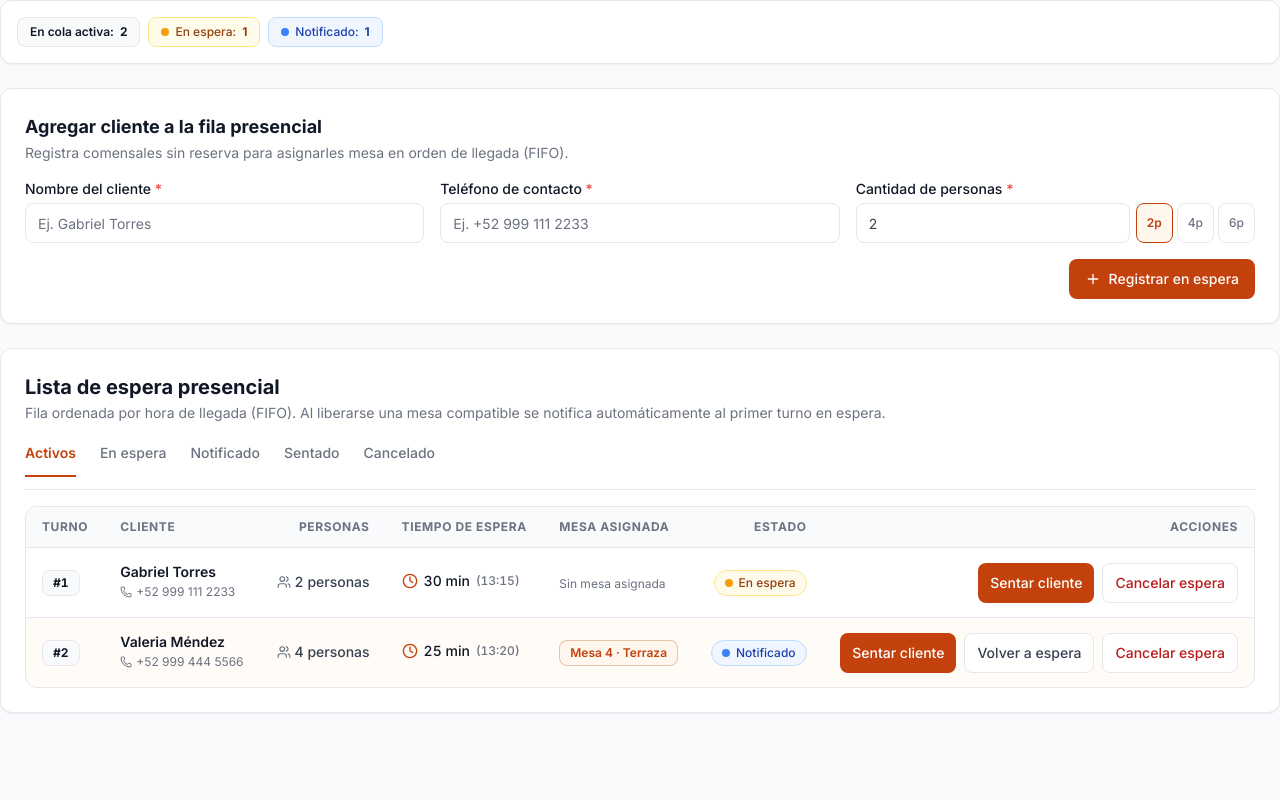
FE-010 · Vista de Lista de Espera Presencial y Alertas de Mesa Compatible (ListaEsperaView) › 3. Acciones de transición de estado en la cola (Sentar, Cancelar, Volver a espera · RF-022) › transiciona un turno a Sentado al hacer clic en "Sentar cliente"
Click the button "Sentar cliente" in the row of "Gabriel Torres" at (1036, 582), box [978,562,1094,602]
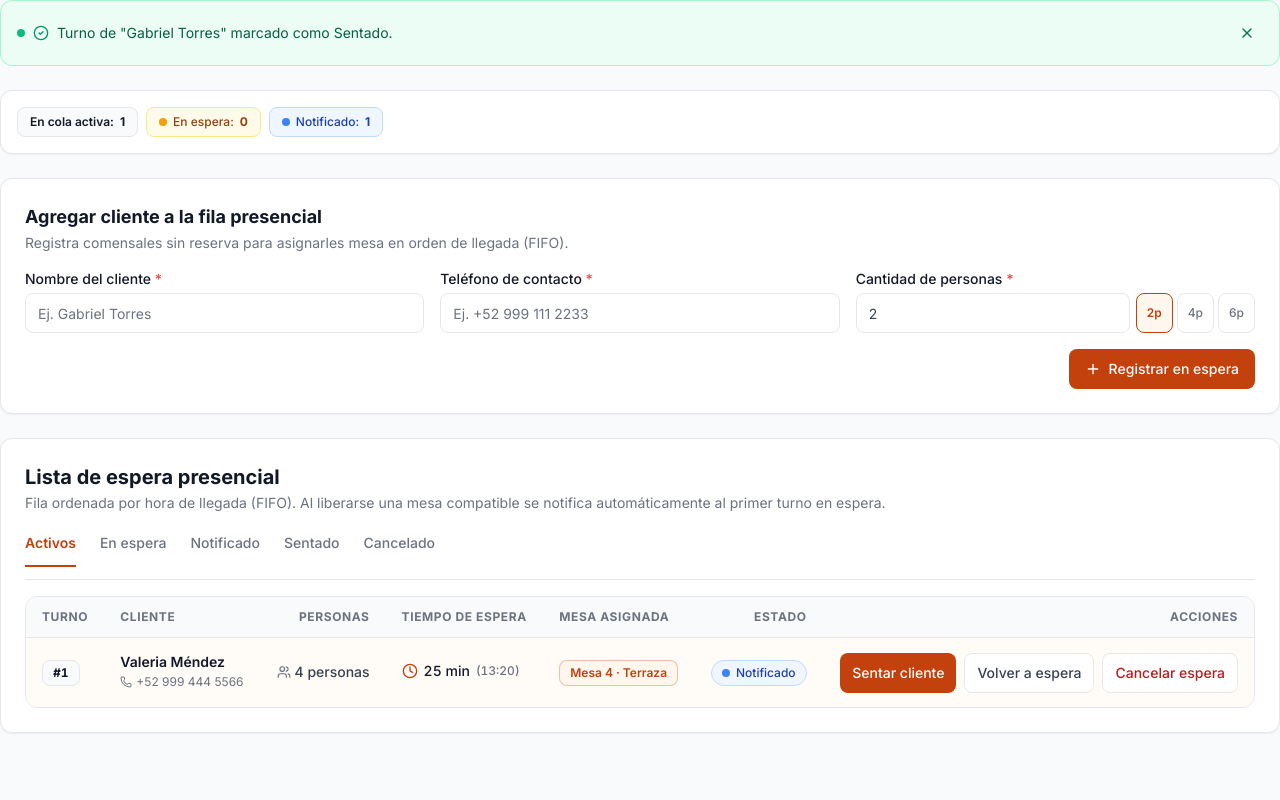
Expected: the message with test id "espera-notice-banner" reads "Turno de \"Gabriel Torres\" marcado como Sentado.", [57,24,393,41]
Note: Al cambiar a la pestaña Sentado aparece Gabriel Torres
Click the tab "Sentado" at (312, 548), box [284,529,340,567]
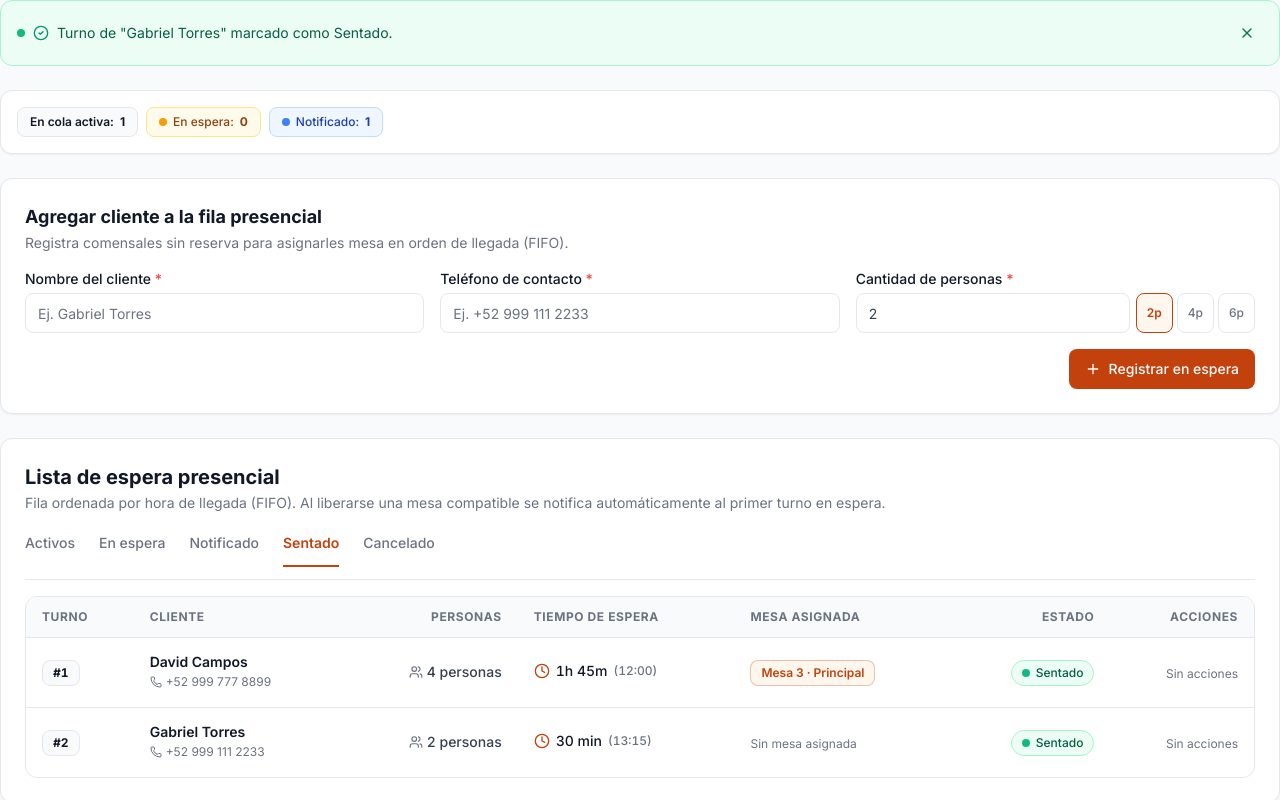
Expected: the text "Gabriel Torres" is shown, [150,723,245,740]
